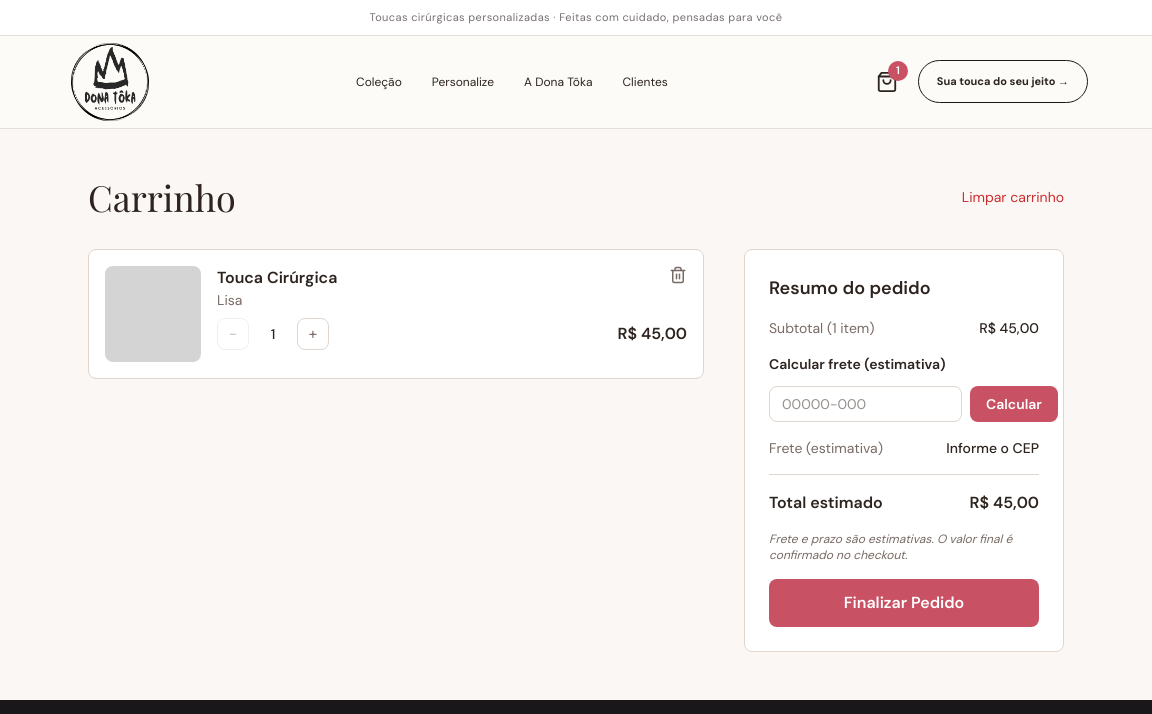
Test: Cart freight estimator › updates the total display to include freight when a valid CEP is provided
expect the text "Touca Cirúrgica" is shown: met, box [217,266,337,290]
expect the text "Total estimado" is shown: met, box [769,490,883,514]
Type "01310100" into the field named "cep para estimativa de frete" at (866, 404), box [769,386,962,422]
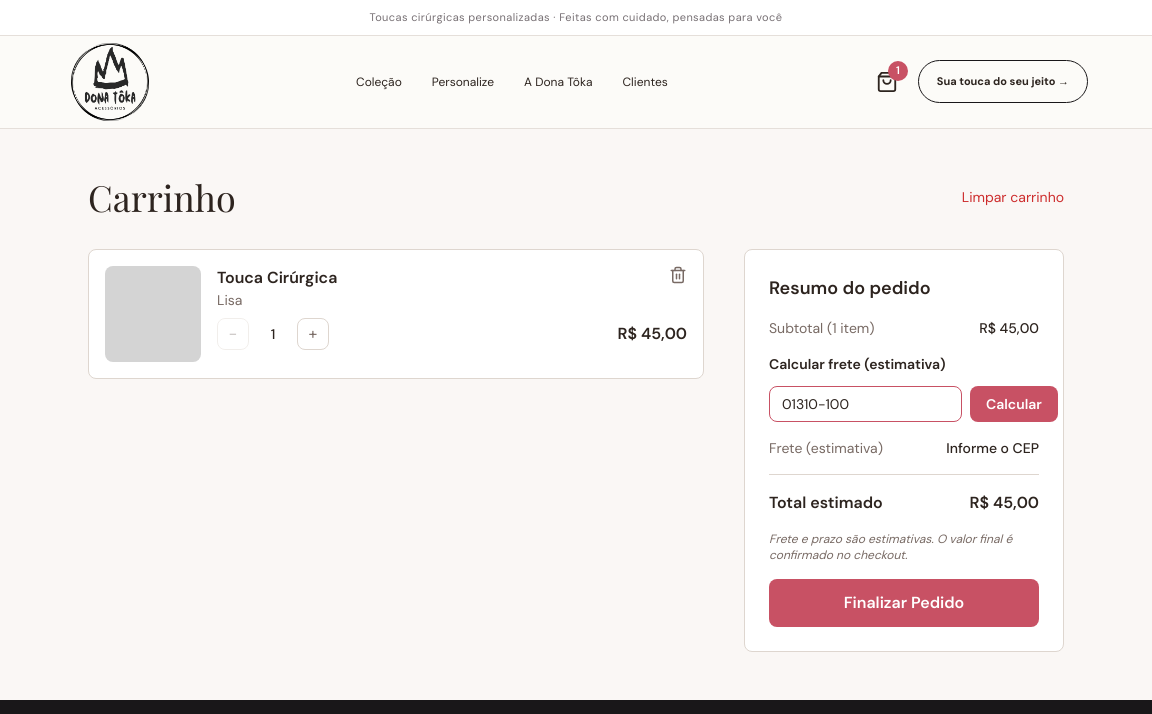
Click the button "Calcular" at (1014, 404), box [970,386,1058,422]
(page scrolled)
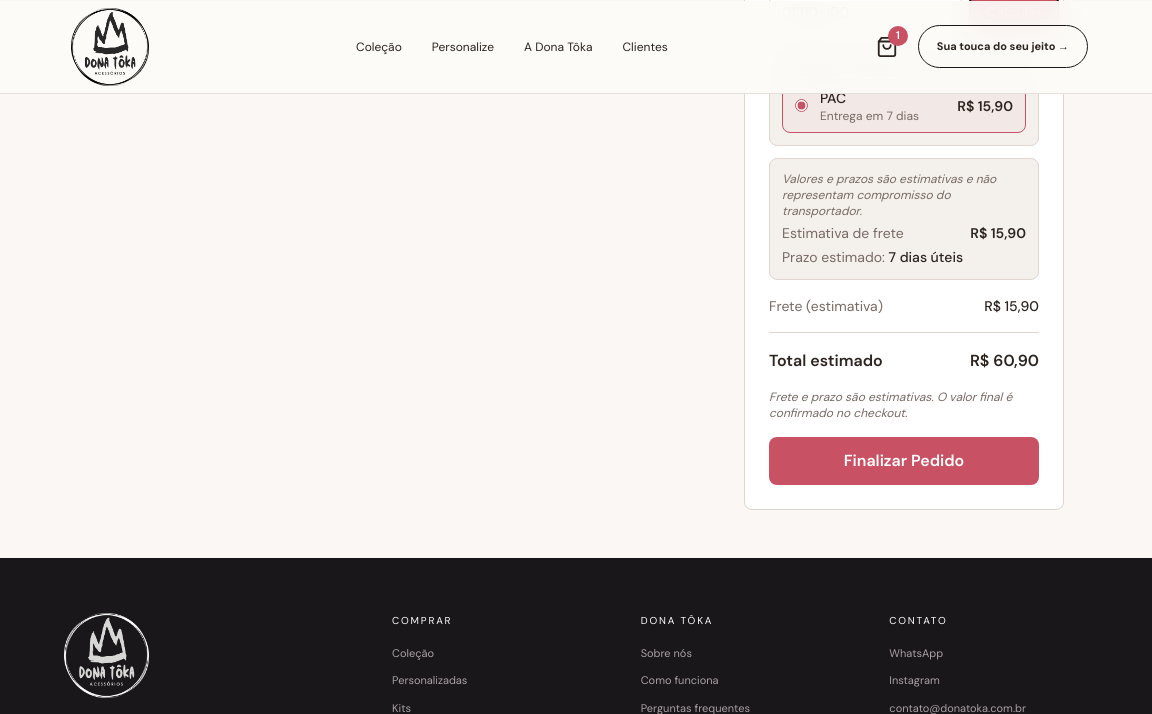
expect the message is shown: met, box [769,158,1039,280]
expect the text "R$ 60,90" is shown: met, box [970,348,1039,372]
